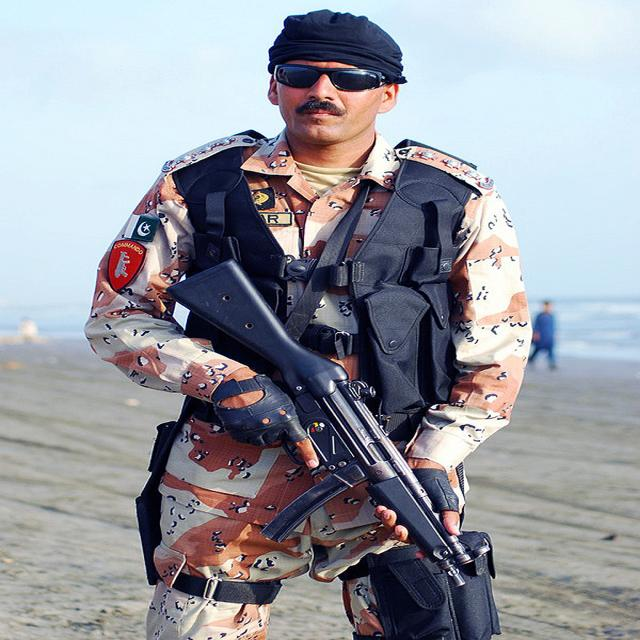Militant: (82, 3, 543, 640)
